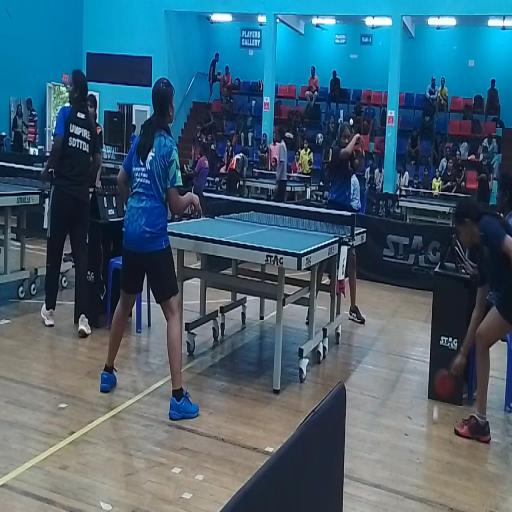ball: (350, 119, 353, 126)
